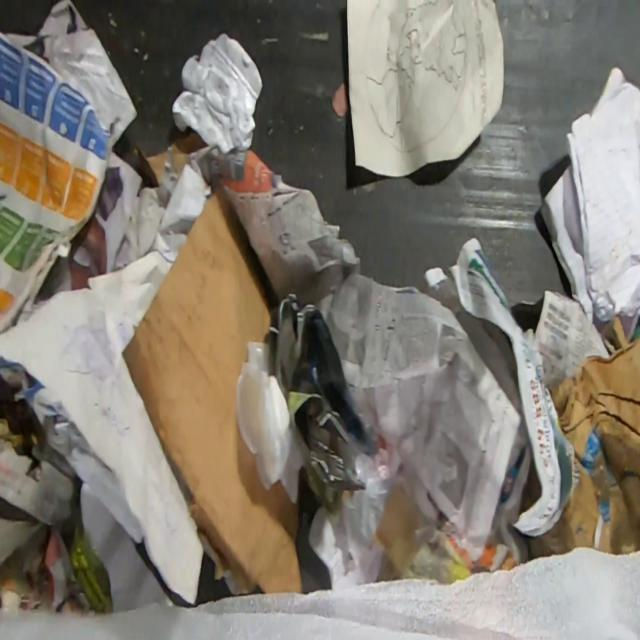cardboard: (122, 185, 304, 598), (526, 313, 640, 560)
soft_plastic: (236, 342, 312, 504)
